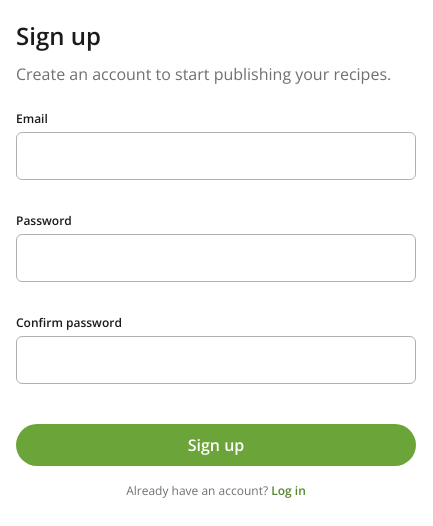
Signup page › shows an error message when signup fails
Type "cook@example.com" into the field labelled "Email" at (216, 156), box top-left (16, 132), bottom-right (416, 180)
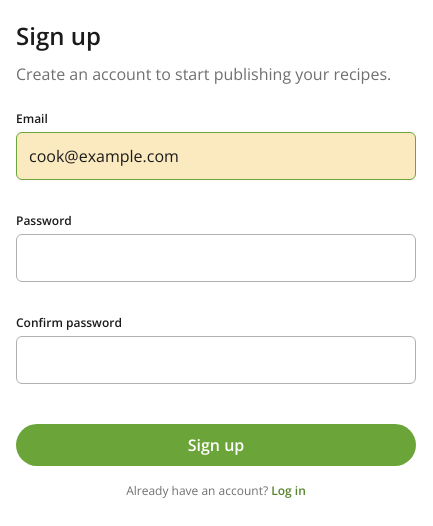
Type "password123" into the password field labelled "Password" at (216, 258), box top-left (16, 234), bottom-right (416, 282)
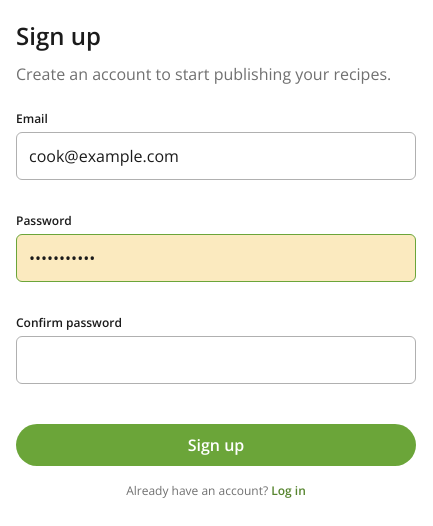
Type "password123" into the password field labelled "Confirm password" at (216, 360), box top-left (16, 336), bottom-right (416, 384)
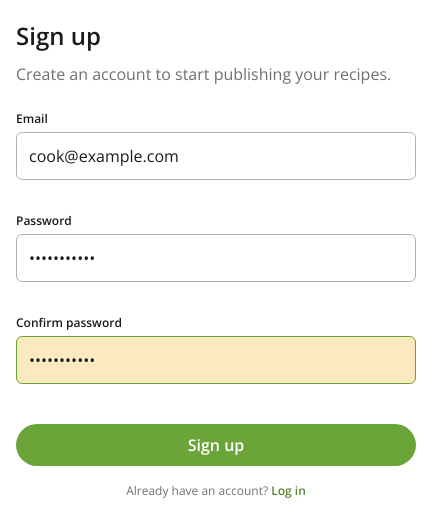
Click the button "Sign up" at (216, 445), box top-left (16, 424), bottom-right (416, 466)
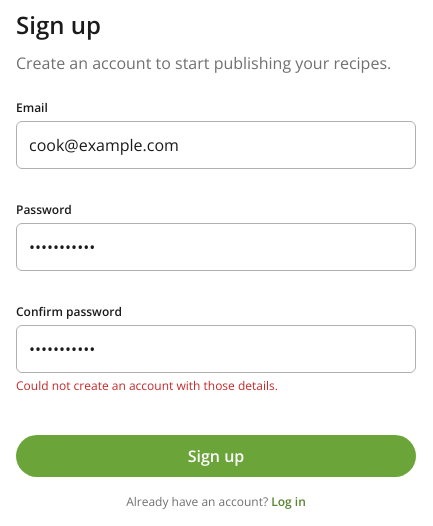
Expected: the text "Could not create an account with those details." is shown, top-left (16, 377), bottom-right (278, 394)
